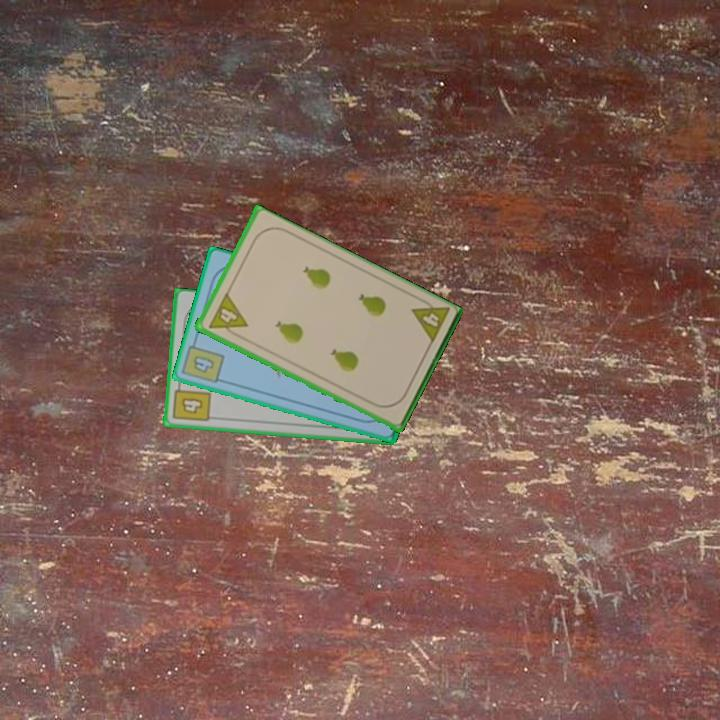4b: (180, 335, 227, 387), (170, 379, 214, 425)
4p: (407, 293, 452, 347), (205, 290, 250, 341)
